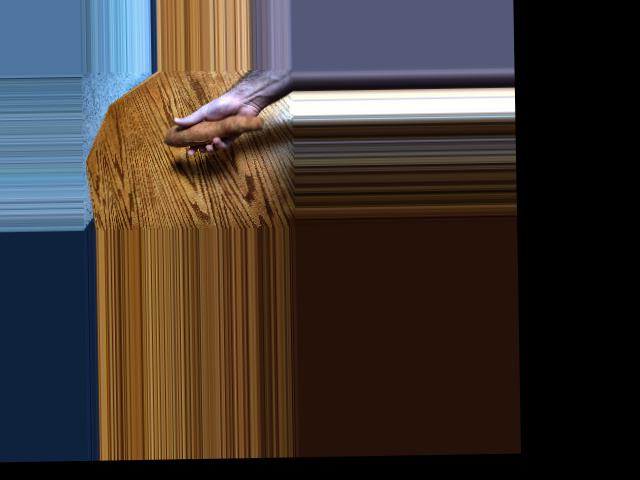sweet_potato: (161, 105, 274, 149)
